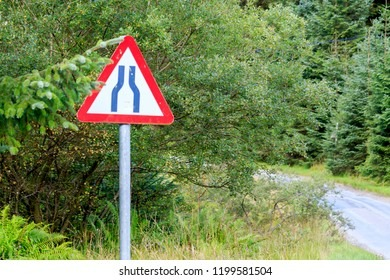narrow-road: (75, 36, 172, 124)
